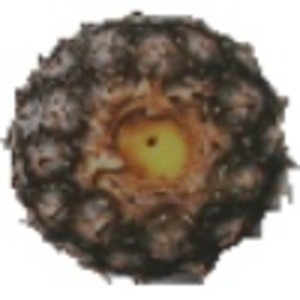abacaxi: (3, 11, 283, 275)
